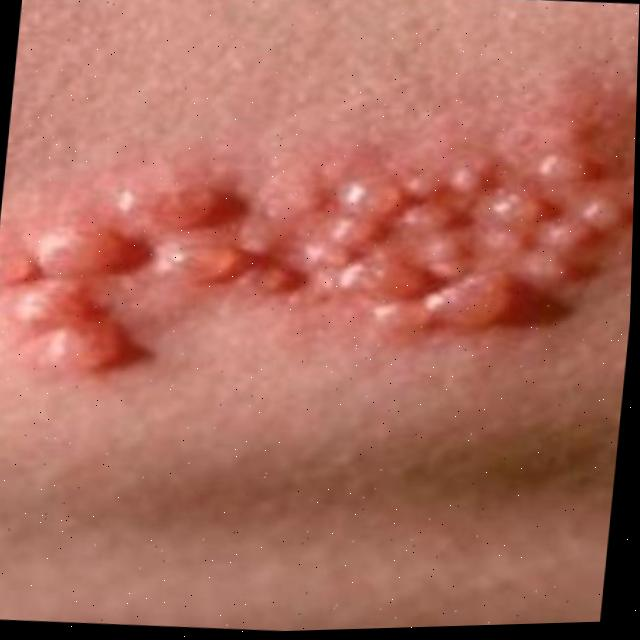Shingles: (5, 101, 636, 417)
